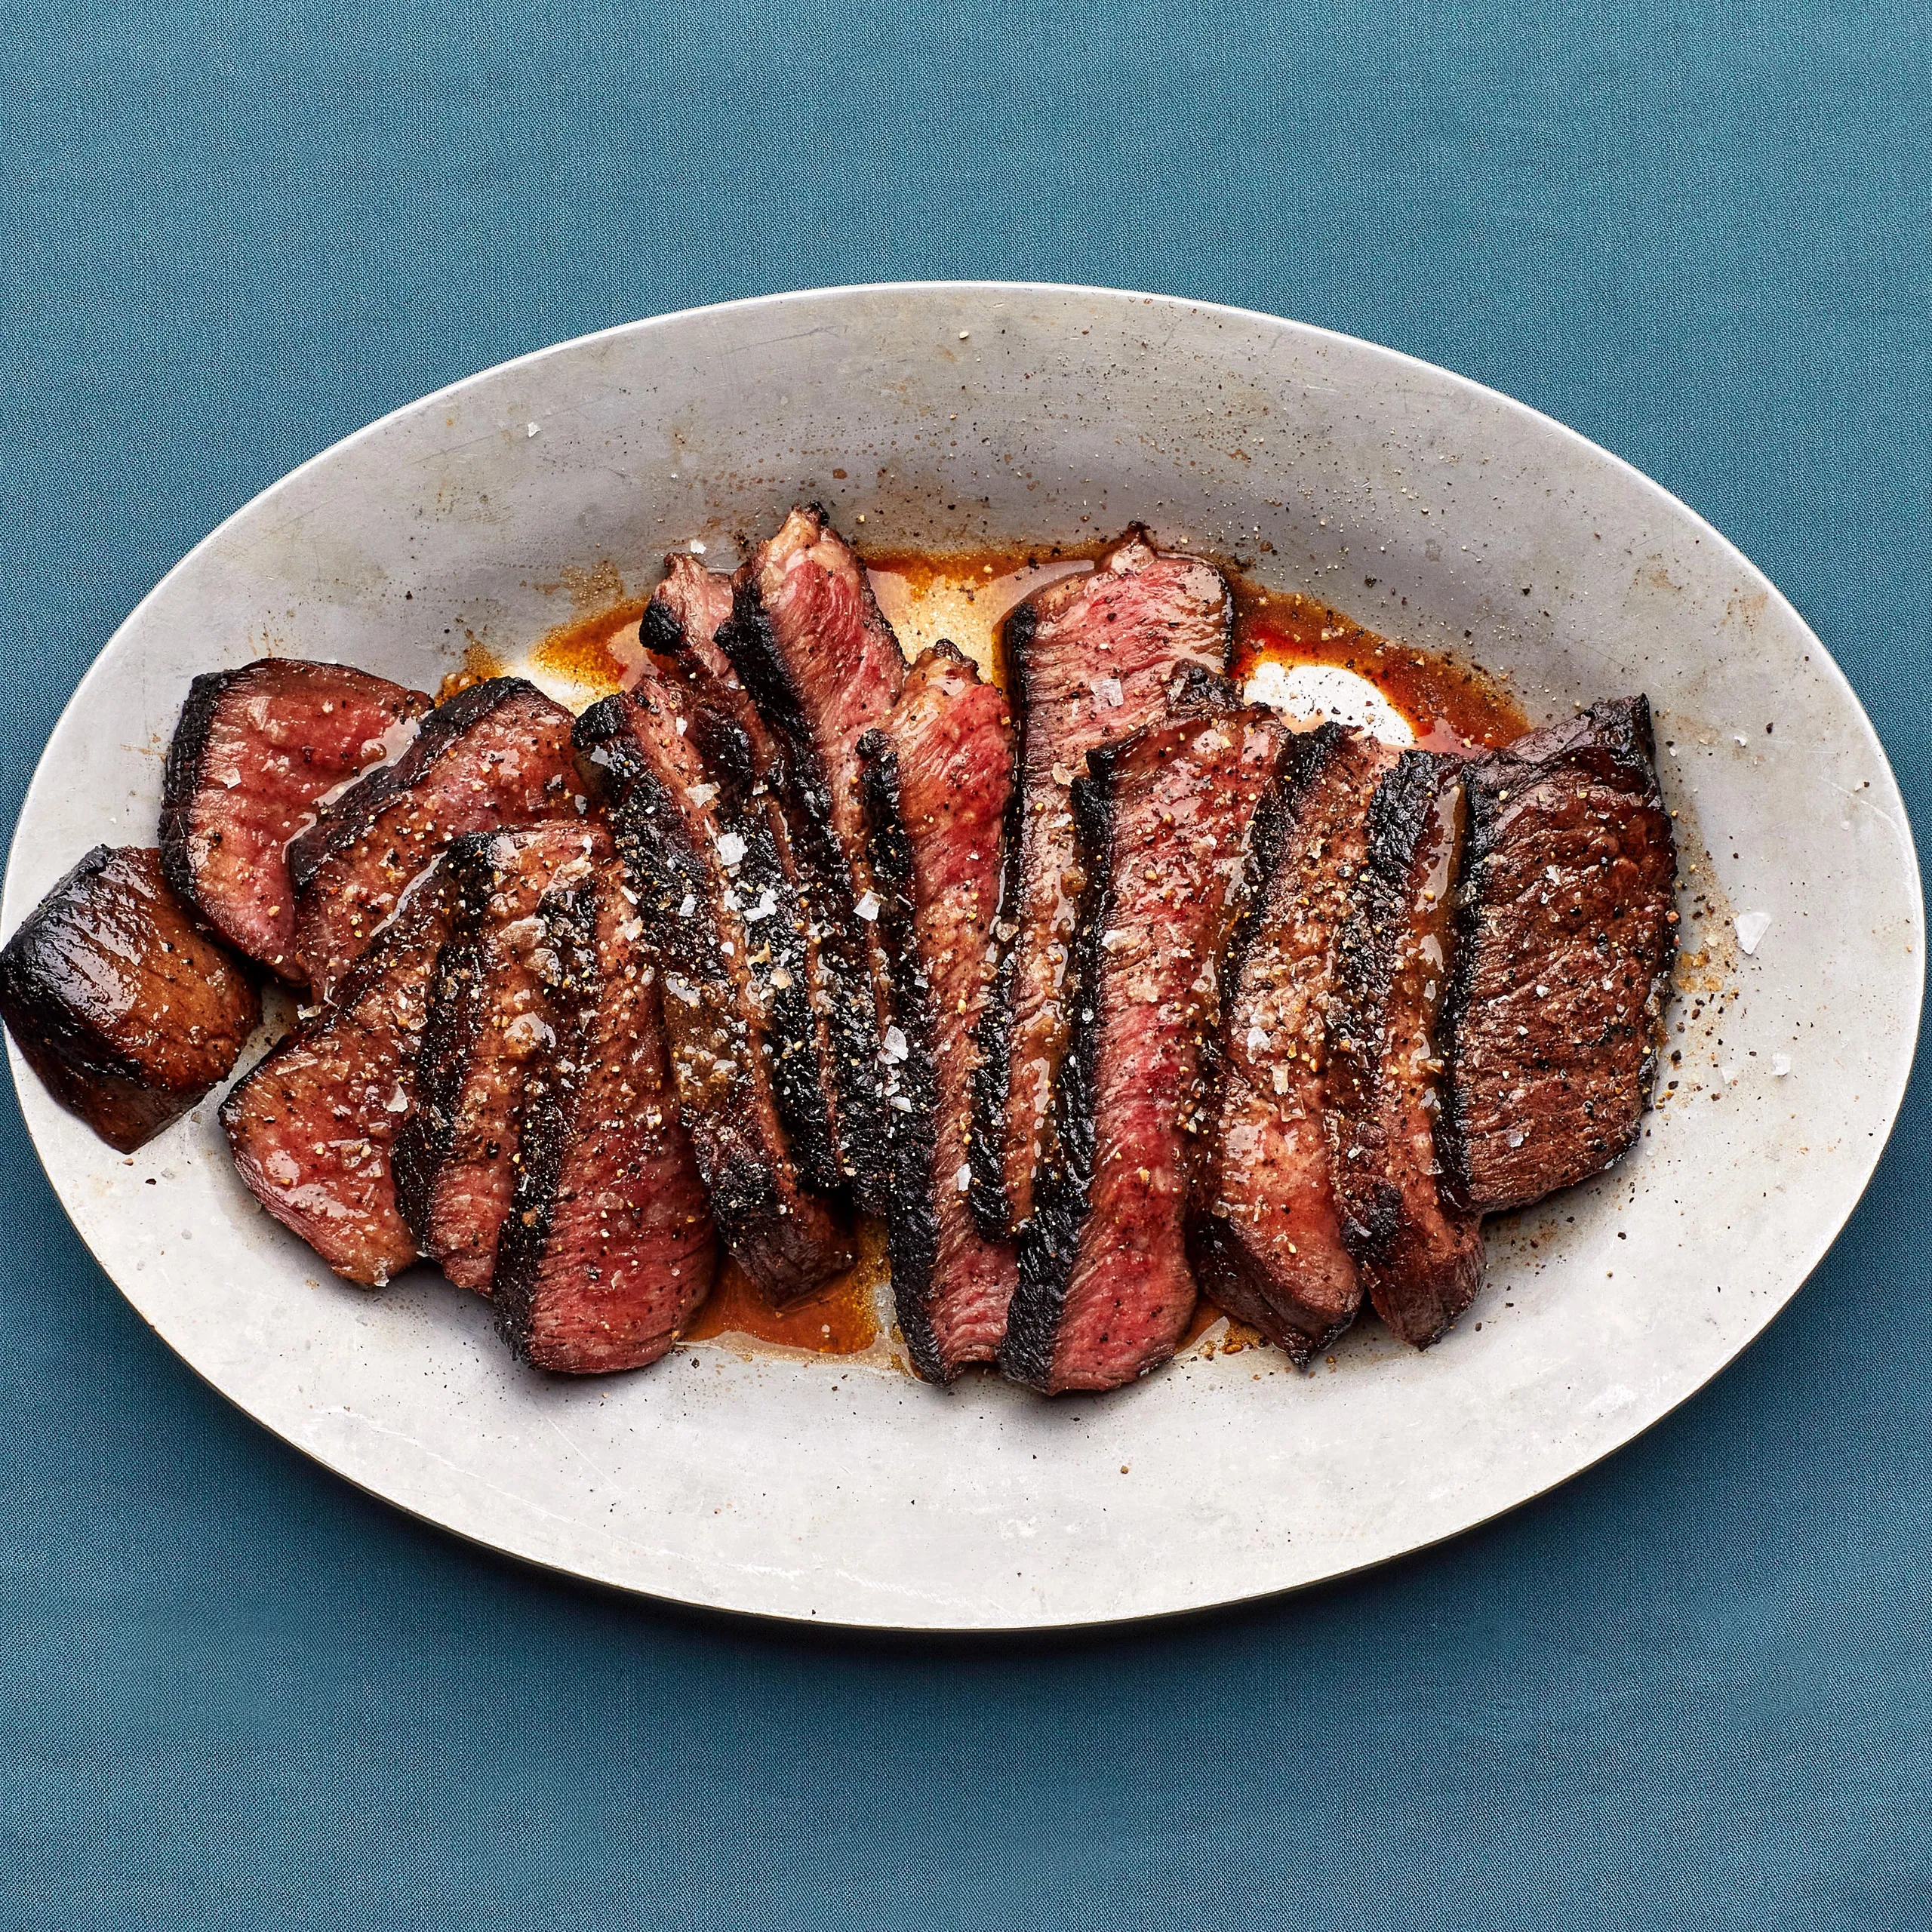beef-round-steak: (0, 513, 1677, 1392)
